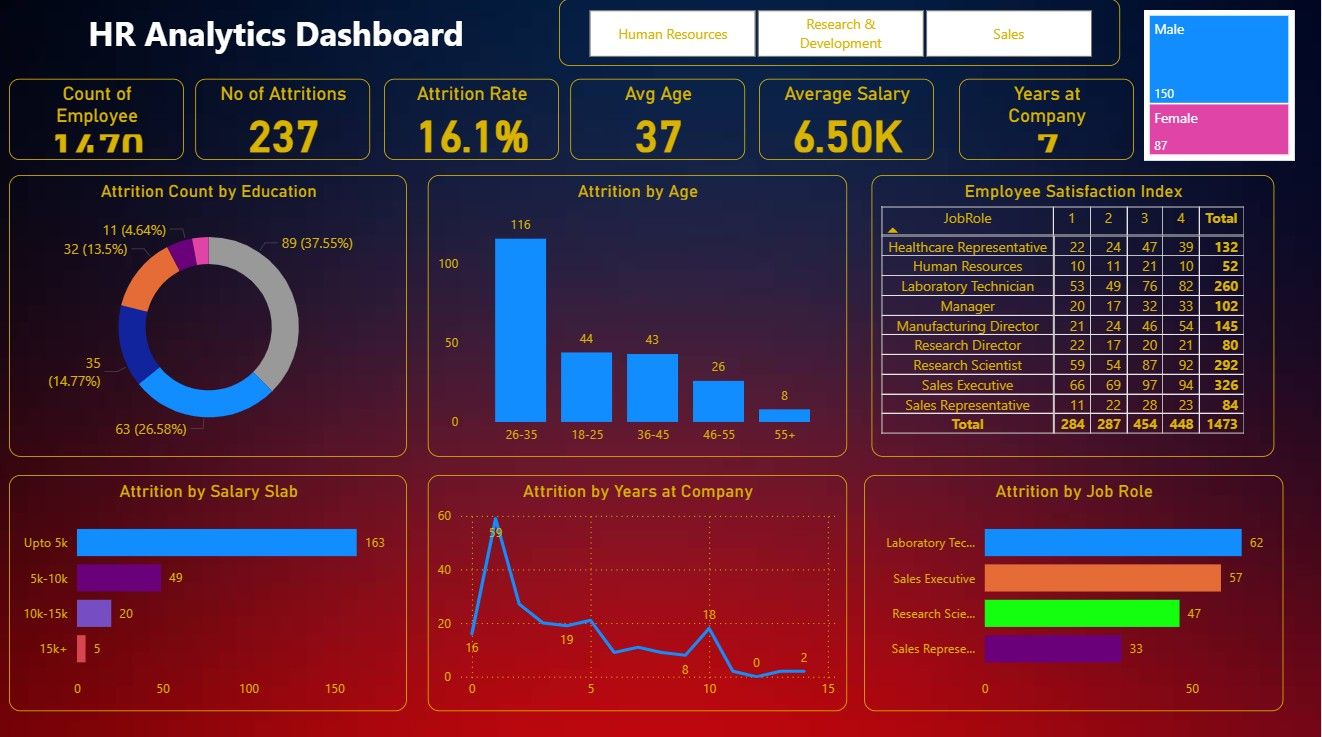

The dashboard page shown, as its layout file describes it:
{"tool":"powerbi","page":{"name":"Page 1","canvas":[1280,720],"ordinal":0},"visuals":[{"type":"card","title":"Count of Employee","fields":{"Values":["Count(HR_Analytics.EmpID)"]},"box":[14.1,81.2,168.7,78.1],"z":0},{"type":"card","title":"No of Attritions","fields":{"Values":["Sum(HR_Analytics.AttritionCount)"]},"box":[193.7,81.2,168.7,78.1],"z":1000},{"type":"card","title":"Attrition Rate","fields":{"Values":["HR_Analytics.Attrition Rate"]},"box":[376.4,81.2,168.7,78.1],"z":2000},{"type":"card","title":"Avg Age","fields":{"Values":["Avg(HR_Analytics.Age)"]},"box":[556,81.2,168.7,78.1],"z":3000},{"type":"card","title":"Average Salary","fields":{"Values":["Avg(HR_Analytics.MonthlyIncome)"]},"box":[738.7,81.2,168.7,78.1],"z":4000},{"type":"card","title":"Years at Company","fields":{"Values":["Avg(HR_Analytics.YearsAtCompany)"]},"box":[930.8,81.2,168.7,78.1],"z":5000},{"type":"donutChart","title":"Attrition Count by Education ","fields":{"Category":["HR_Analytics.EducationField"],"Y":["Sum(HR_Analytics.AttritionCount)"]},"box":[14.1,173.4,384.2,271.8],"z":6000},{"type":"columnChart","title":"Attrition by Age","fields":{"Y":["Sum(HR_Analytics.AttritionCount)"],"Category":["HR_Analytics.AgeGroup"]},"box":[418.6,173.4,404.5,271.8],"z":7000},{"type":"pivotTable","title":"Employee Satisfaction Index","fields":{"Rows":["HR_Analytics.JobRole"],"Columns":["HR_Analytics.EnvironmentSatisfaction"],"Values":["CountNonNull(HR_Analytics.EnvironmentSatisfaction)"]},"box":[846.5,173.4,388.9,271.8],"z":8000},{"type":"barChart","title":"Attrition by Salary Slab","fields":{"Category":["HR_Analytics.SalarySlab"],"Y":["Sum(HR_Analytics.AttritionCount)"]},"box":[14.1,463.9,384.2,228],"z":9000},{"type":"lineChart","title":"Attrition by Years at Company","fields":{"Category":["HR_Analytics.YearsAtCompany"],"Y":["Sum(HR_Analytics.AttritionCount)"]},"box":[418.6,463.9,404.5,228],"z":10000},{"type":"barChart","title":"Attrition by Job Role","fields":{"Y":["Sum(HR_Analytics.AttritionCount)"],"Category":["HR_Analytics.JobRole"]},"box":[840.3,463.9,404.5,228],"z":11000},{"type":"slicer","fields":{"Values":["HR_Analytics.Department"]},"box":[545.1,3.1,542,65],"z":12000},{"type":"treemap","fields":{"Group":["HR_Analytics.Gender"],"Values":["Sum(HR_Analytics.AttritionCount)"]},"box":[1110.5,14.1,145.2,145.2],"z":13000},{"type":"textbox","box":[14.1,9.4,515.4,59.3],"z":13001}]}

Visuals, with their boxes in screenshot pixels (x1, y1, x2, y2), scaled from the page's 1280x720 canvas onto the 1322x737 screenshot:
"Count of Employee" card: x1=15 y1=83 x2=189 y2=163
"No of Attritions" card: x1=200 y1=83 x2=374 y2=163
"Attrition Rate" card: x1=389 y1=83 x2=563 y2=163
"Avg Age" card: x1=574 y1=83 x2=748 y2=163
"Average Salary" card: x1=763 y1=83 x2=937 y2=163
"Years at Company" card: x1=961 y1=83 x2=1136 y2=163
"Attrition Count by Education " donutChart: x1=15 y1=177 x2=411 y2=456
"Attrition by Age" columnChart: x1=432 y1=177 x2=850 y2=456
"Employee Satisfaction Index" pivotTable: x1=874 y1=177 x2=1276 y2=456
"Attrition by Salary Slab" barChart: x1=15 y1=475 x2=411 y2=708
"Attrition by Years at Company" lineChart: x1=432 y1=475 x2=850 y2=708
"Attrition by Job Role" barChart: x1=868 y1=475 x2=1286 y2=708
slicer - HR_Analytics.Department: x1=563 y1=3 x2=1123 y2=70
treemap - HR_Analytics.Gender x Sum(HR_Analytics.AttritionCount): x1=1147 y1=14 x2=1297 y2=163
textbox: x1=15 y1=10 x2=547 y2=70
